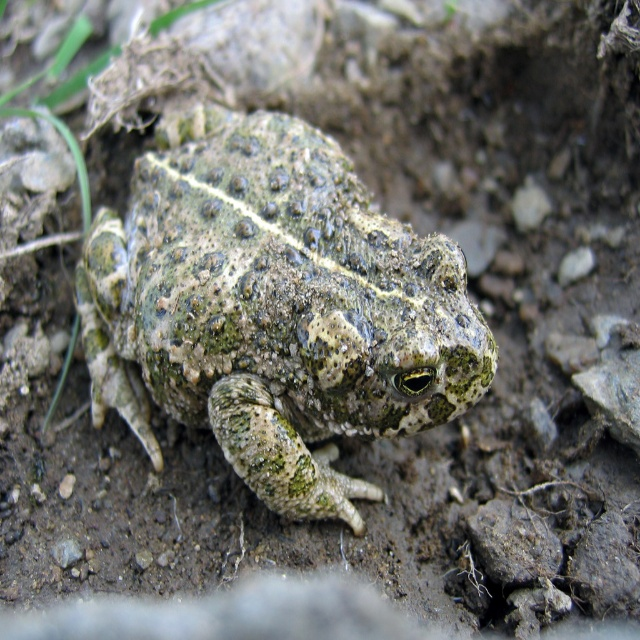Frog: (75, 100, 499, 537)
